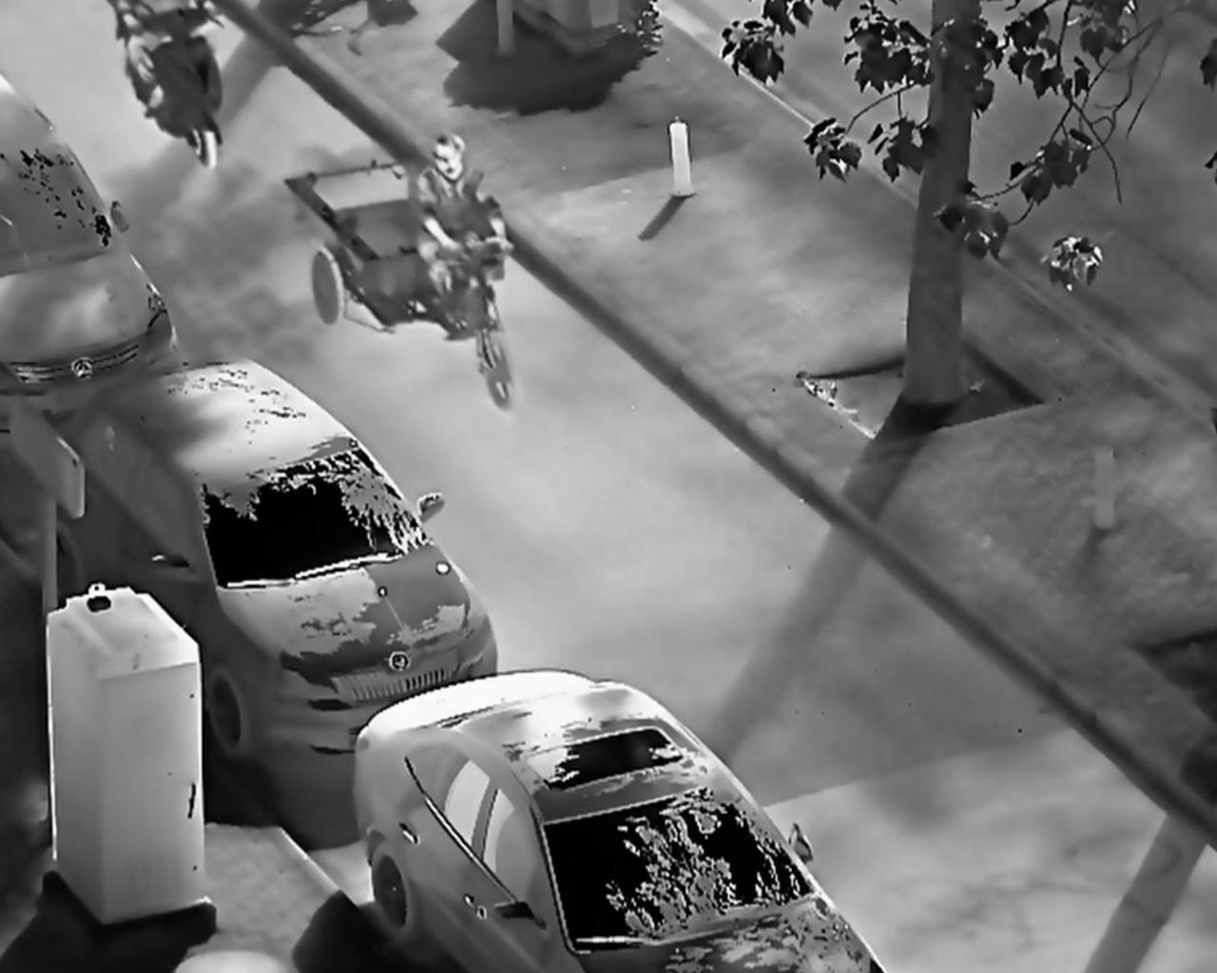person: (414, 130, 515, 349)
